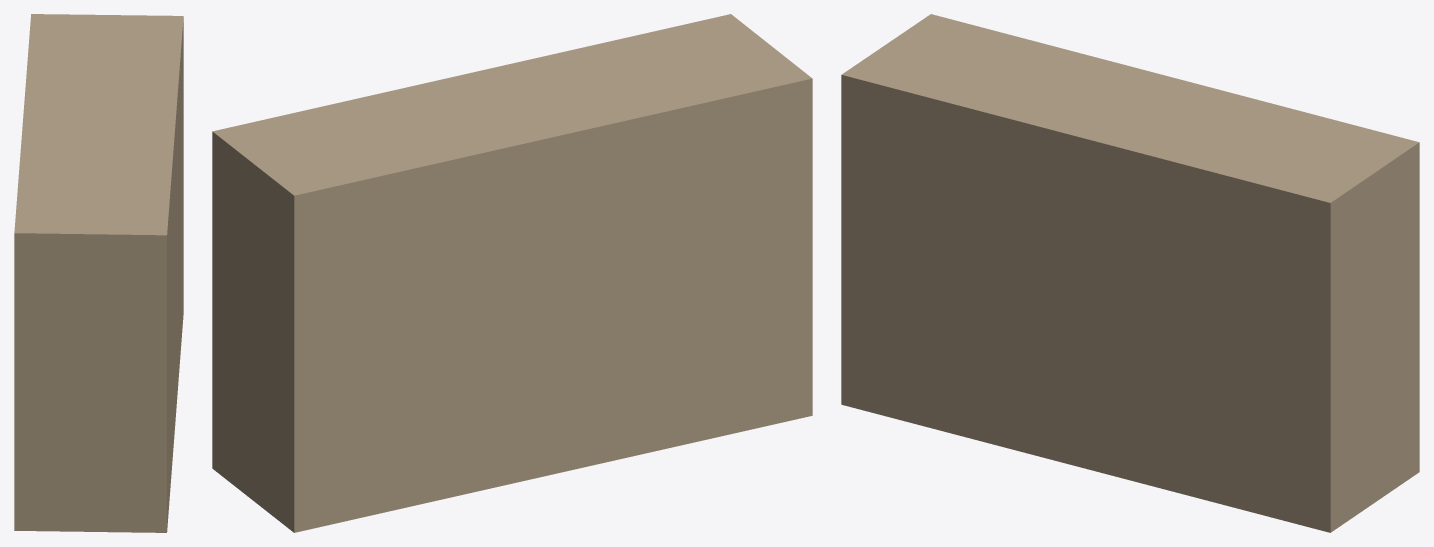
The model's file is bld_100478358.dae.
3 renders of one model, left to right at view 1: azimuth 30°, elevation 25°; view 2: azimuth 150°, elevation 25°; view 3: azimuth 270°, elevation 25°, orthographic. The views are drawn at different scales.
Parts seen in each view (by area): view 1: bld_100478358; view 2: bld_100478358; view 3: bld_100478358.
Boxes of the visible parts, <box> form: bld_100478358: <box>14,14,183,532</box>; bld_100478358: <box>212,14,812,532</box>; bld_100478358: <box>841,14,1419,532</box>.
Size of the model in its own units: 9.83 by 12.7 by 8.
